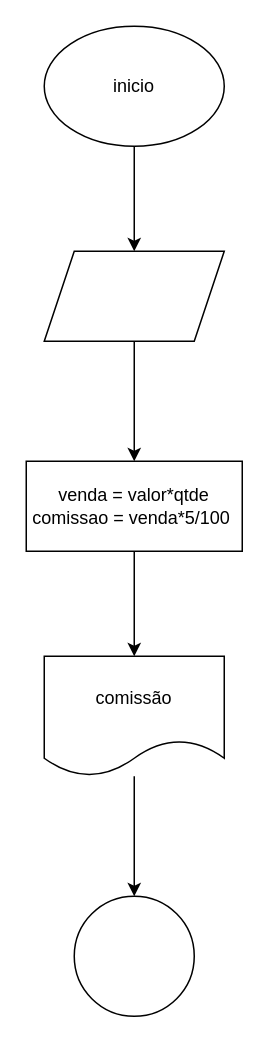
Image size: 269x1043. Some labels were removed from this diagram. Each missing label, with the centre of its shape:
fim: point 133,955
valor, qtde: point 133,295
